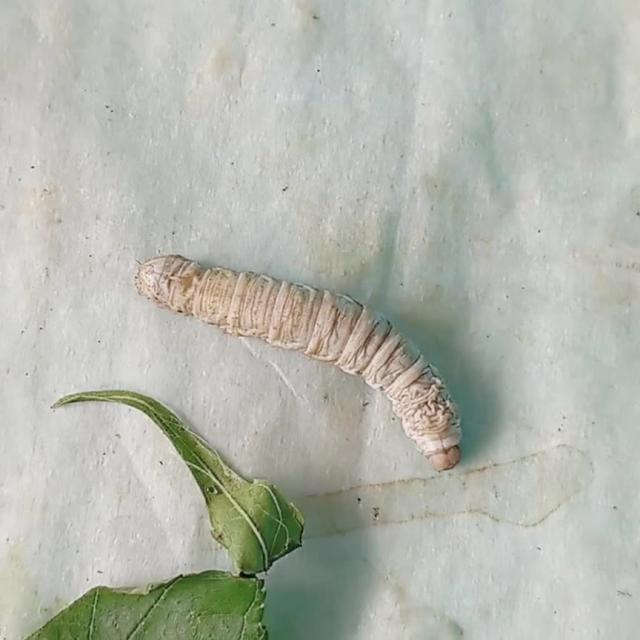Grasserie: (129, 238, 469, 482)
